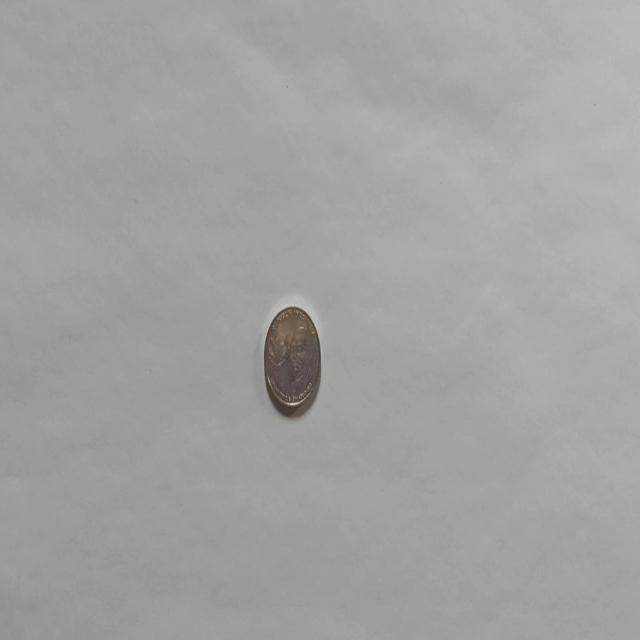lima ratus rupiah: (262, 304, 322, 415)
